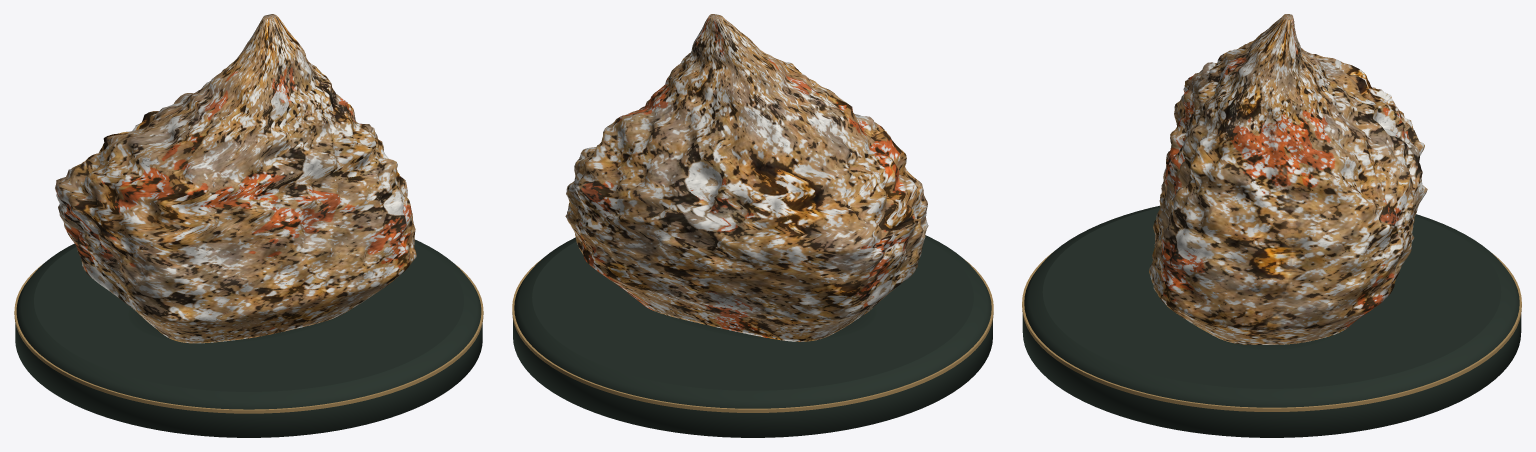
Rendered from lingstone-art-02-v20-04f5452a9722.glb.
3 renders of one model, left to right at view 1: azimuth 30°, elevation 25°; view 2: azimuth 150°, elevation 25°; view 3: azimuth 270°, elevation 25°, orthographic. The views are drawn at different scales.
Visible parts, largest first — view 1: art-cf2130a6f0e5b00c concept stone, Centered beveled display plinth, Champagne gold edge; view 2: art-cf2130a6f0e5b00c concept stone, Centered beveled display plinth, Champagne gold edge; view 3: art-cf2130a6f0e5b00c concept stone, Centered beveled display plinth, Champagne gold edge.
Boxes of the visible parts, x1,y1,x2,y2 form: art-cf2130a6f0e5b00c concept stone: (55,14,416,343); Centered beveled display plinth: (15,239,482,437); Champagne gold edge: (14,264,483,413); art-cf2130a6f0e5b00c concept stone: (565,14,928,341); Centered beveled display plinth: (513,235,992,437); Champagne gold edge: (512,259,993,412); art-cf2130a6f0e5b00c concept stone: (1149,14,1427,344); Centered beveled display plinth: (1022,205,1521,437); Champagne gold edge: (1022,253,1521,411).
Bounding box in the file's own units: 1.95 × 1.45 × 1.95.
Materials: 4 (1 with a texture image).
